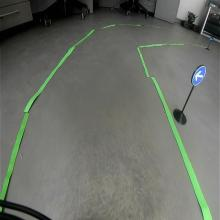left: (190, 64, 206, 86)
